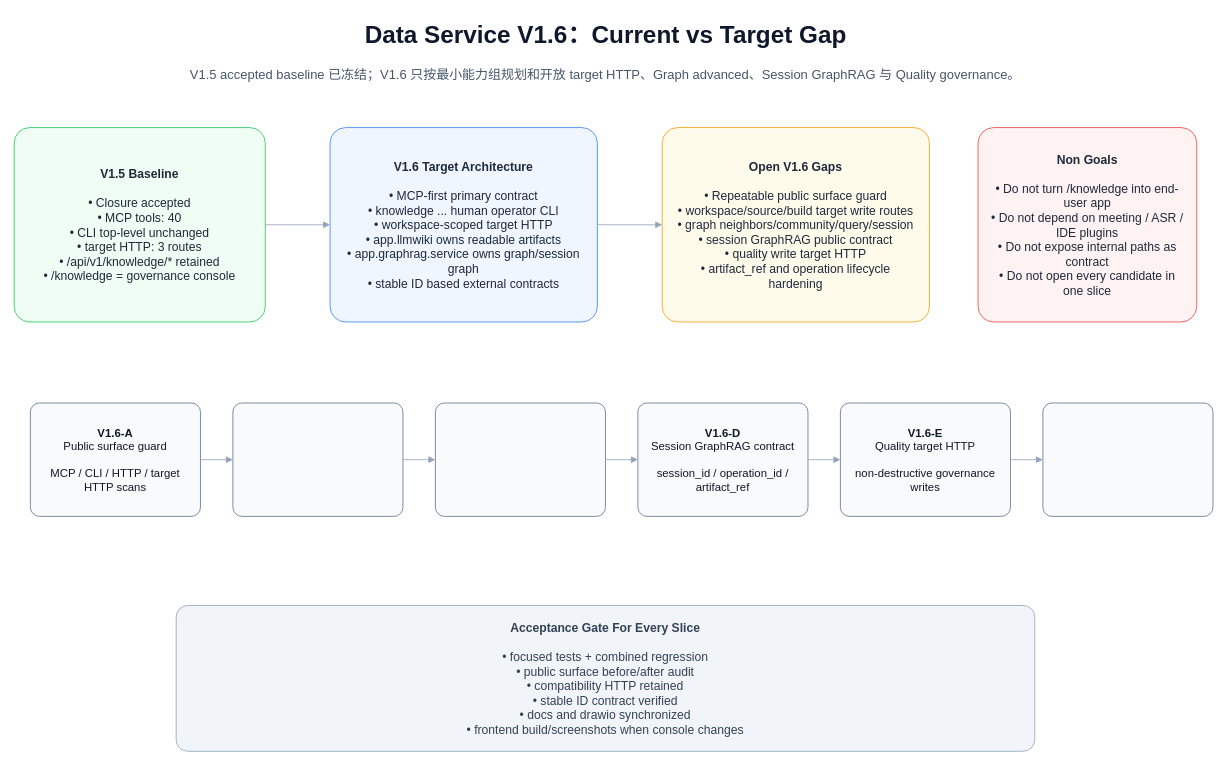
Image size: 1227x765. Some labels were removed from this diagram. The shapes that lost their labels are listed below. From the top down, each one's centre as x and y in pixels, then its label:
At point (317, 459): "V1.6-B Lifecycle target HTTP workspace / source / build write routes".
At point (520, 459): "V1.6-C Graph advanced neighbors / community / query / session".
At point (1127, 459): "V1.6-F Console governance polish surface / contract / trace evidence".
